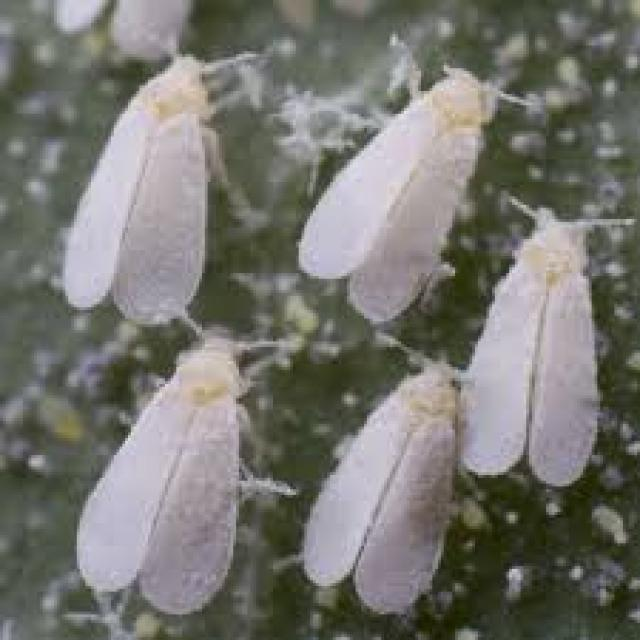Whitefly: (284, 59, 640, 624), (48, 18, 258, 344), (57, 328, 267, 620)
